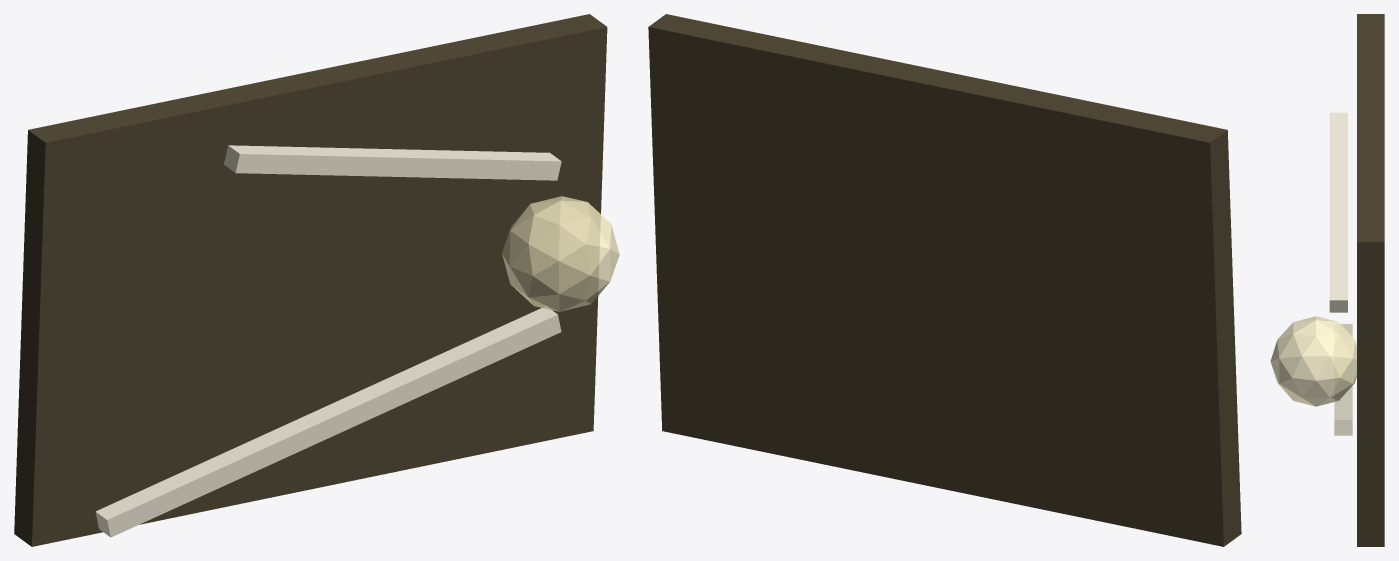
Rendered from 02_world_prop_polish.glb.
3 views of the same model, side by side, from view 1: azimuth 30°, elevation 25°; view 2: azimuth 150°, elevation 25°; view 3: azimuth 270°, elevation 25° (orthographic). The views are drawn at different scales.
Parts seen in each view (by area): view 1: object_overlay_plate, edge_wear_a, glow_socket, edge_wear_b; view 2: object_overlay_plate; view 3: object_overlay_plate, glow_socket, edge_wear_b, edge_wear_a.
Boxes of the visible parts, x1=… form: object_overlay_plate: x1=14, y1=14, x2=607, y2=546; edge_wear_a: x1=95, y1=307, x2=561, y2=537; glow_socket: x1=502, y1=196, x2=619, y2=311; edge_wear_b: x1=224, y1=145, x2=561, y2=180; object_overlay_plate: x1=648, y1=14, x2=1241, y2=546; object_overlay_plate: x1=1357, y1=14, x2=1384, y2=546; glow_socket: x1=1270, y1=316, x2=1356, y2=406; edge_wear_b: x1=1329, y1=112, x2=1347, y2=312; edge_wear_a: x1=1334, y1=324, x2=1352, y2=435.
Size of the model in its own units: 1.13 by 0.7891 by 0.25.
